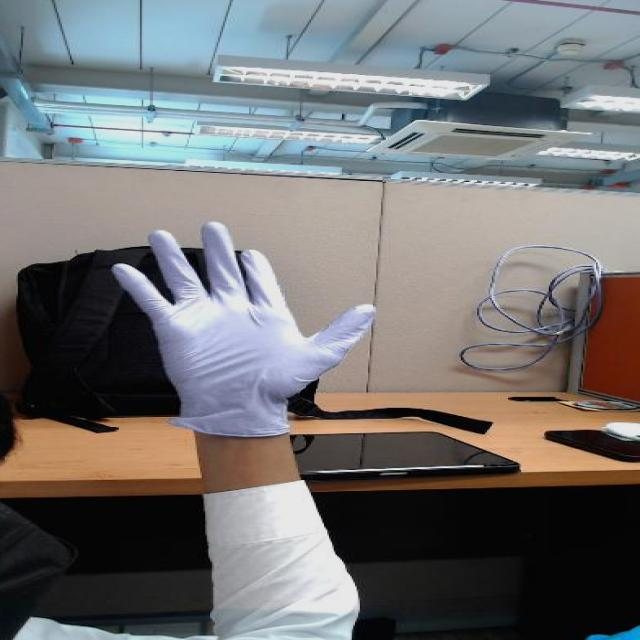glove: (101, 216, 381, 384)
